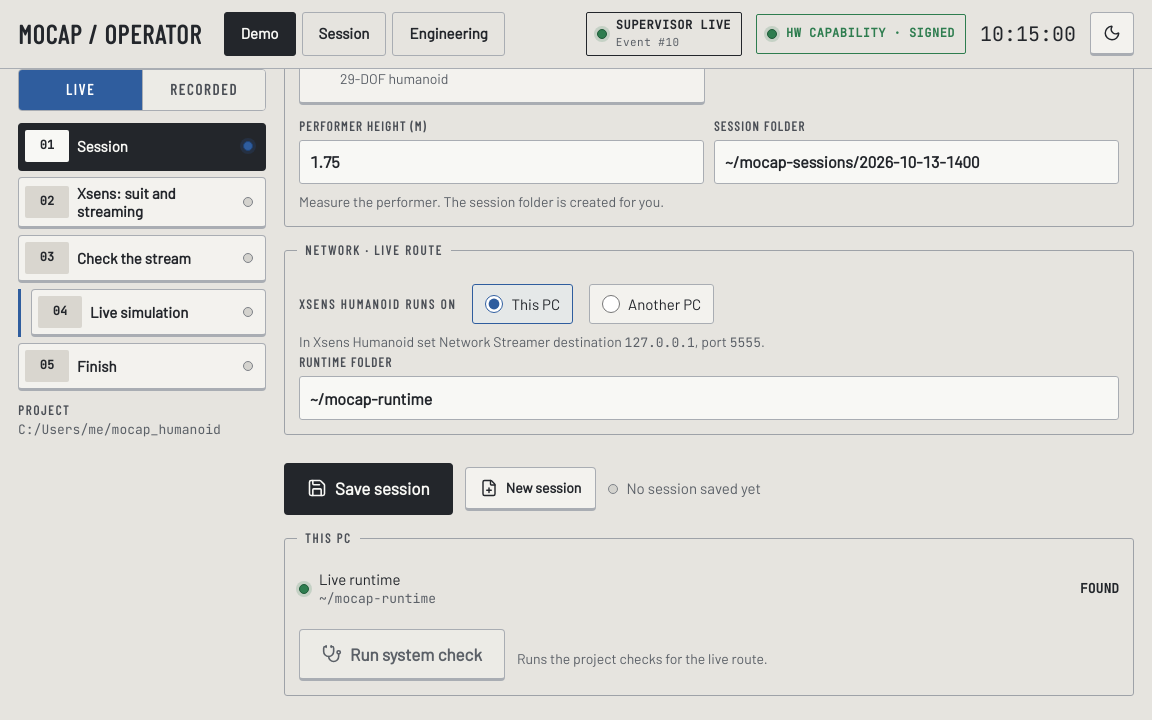
Test case: Setup on Windows › writes 127.0.0.1 and an empty receiver IP when Xsens runs on this PC
(page scrolled)
Expected: the radio button labelled "This PC" is checked, [485,295,503,313]
Expected: the text "Network Streamer destination" shows "127.0.0.1", [625,334,695,351]
Click the button "Save session" at (368, 489), box [284,463,453,515]
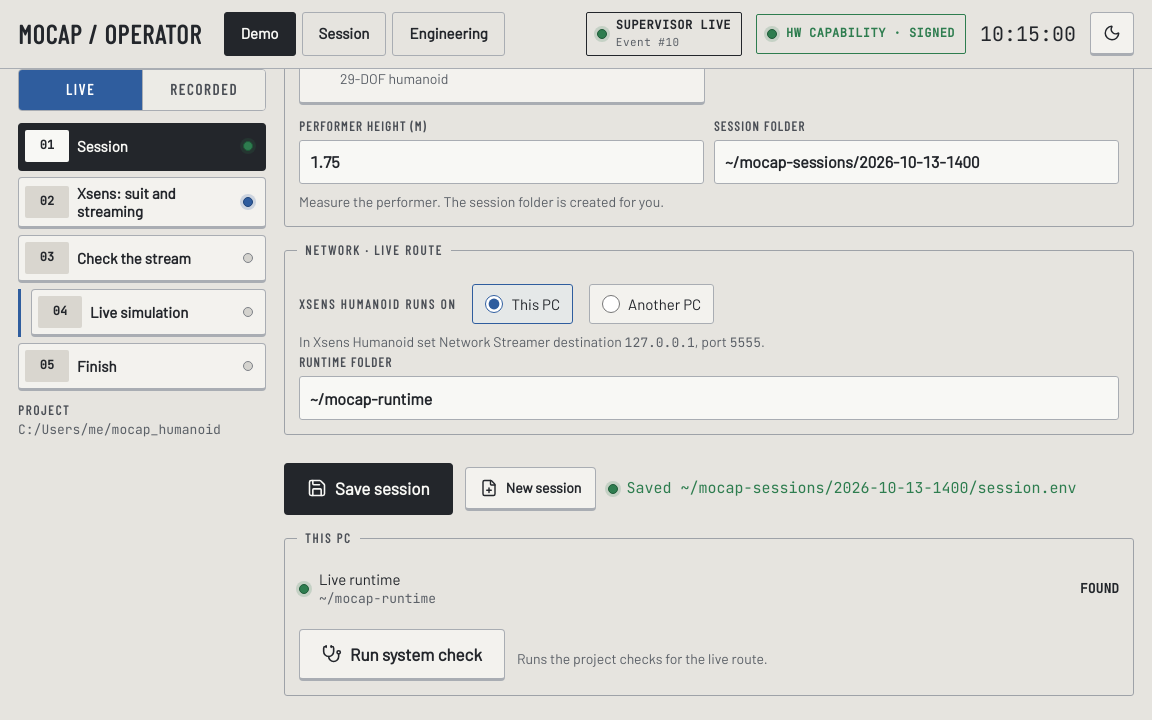
Result: the text "Saved ~/mocap-sessions/2026-10-13-1400/session.env" is shown at [626,478,1076,500]
